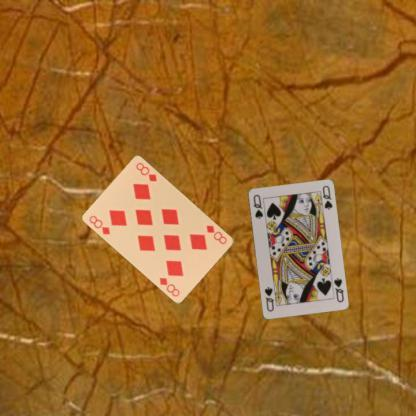8d: (86, 213, 112, 236), (204, 223, 228, 245)
Qs: (331, 274, 345, 304), (250, 192, 264, 221)
